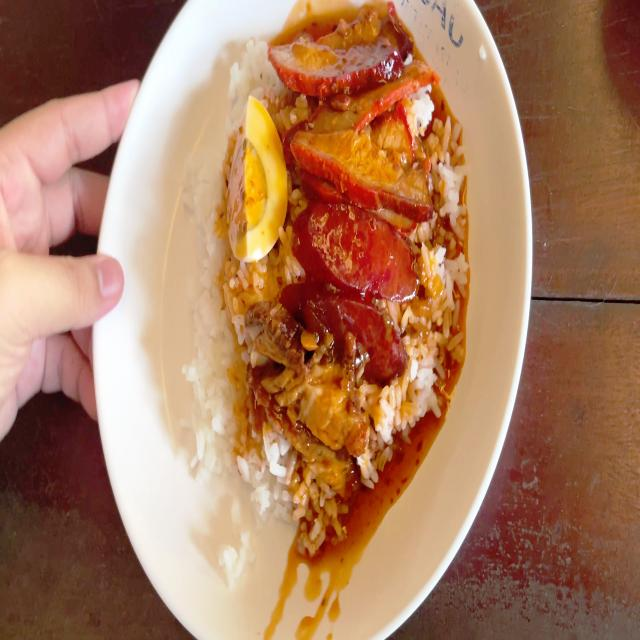boiled_egg: (229, 104, 290, 256)
chainese_sausage: (294, 202, 416, 379)
crispy_pork: (301, 377, 362, 498), (248, 312, 299, 444)
red_pork: (286, 32, 436, 205)
red_pork_and_crispy_pork: (201, 31, 458, 524)
rice: (200, 264, 246, 462), (367, 384, 421, 471)
